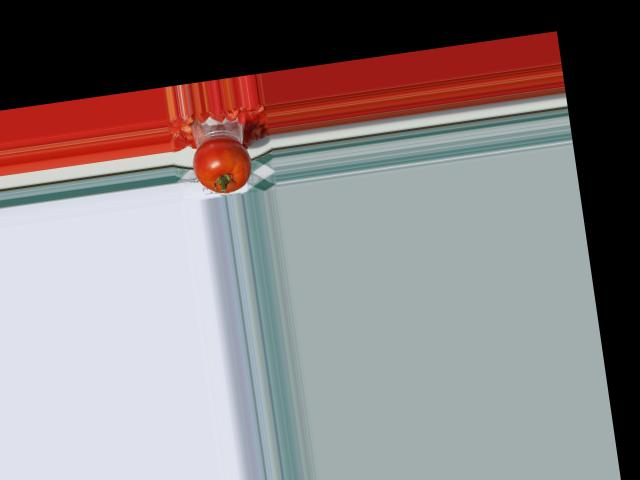tomato: (188, 133, 255, 197)
